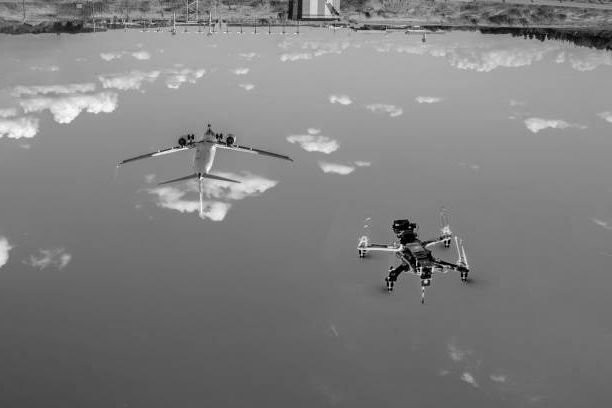Drone: (349, 213, 476, 306)
